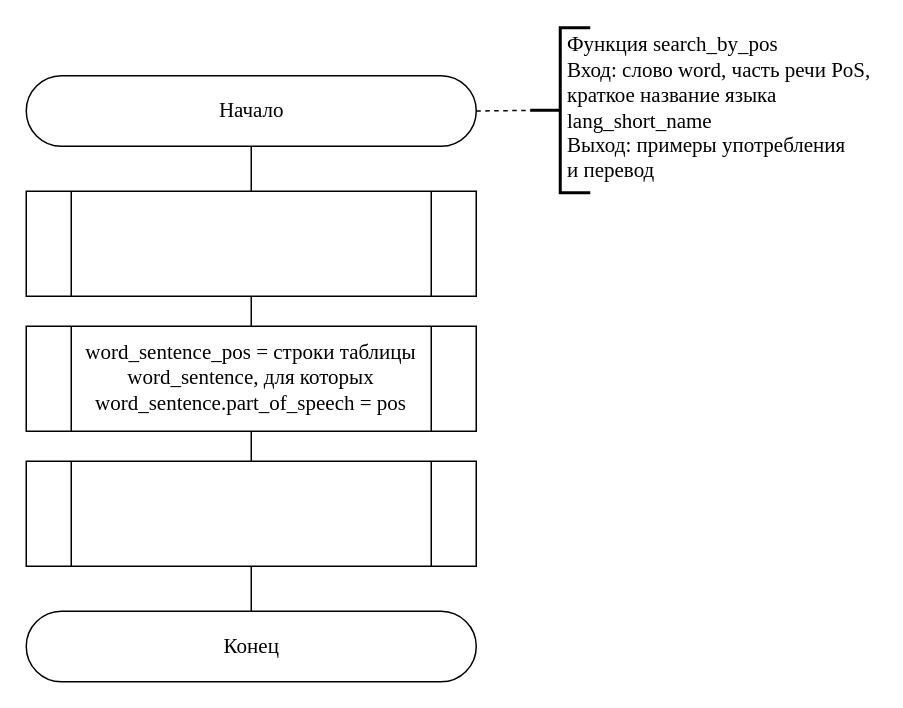
This 903x708 diagram has some shape labels left out. The centre of each missing label's shape, as x and y in pixels:
word_sentence = basic_search(word, language_short_name): pixel 250 243
Вернуть полученную таблицу: pixel 250 513
